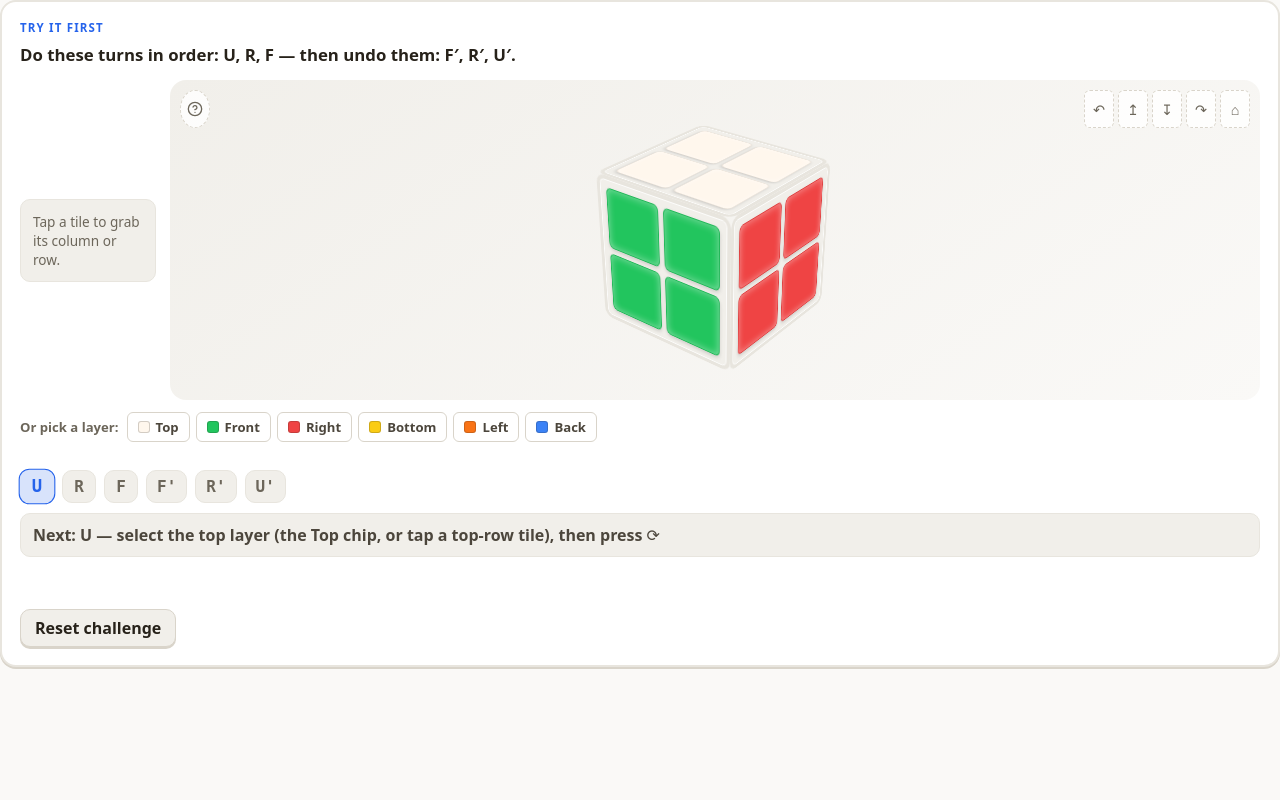
Test: ChallengePanel — cube help popover › opens from the ? button, explains the tap-twice rule, and closes on ×
Click the button named "how to control the cube" at (195, 109), box [180,90,210,128]
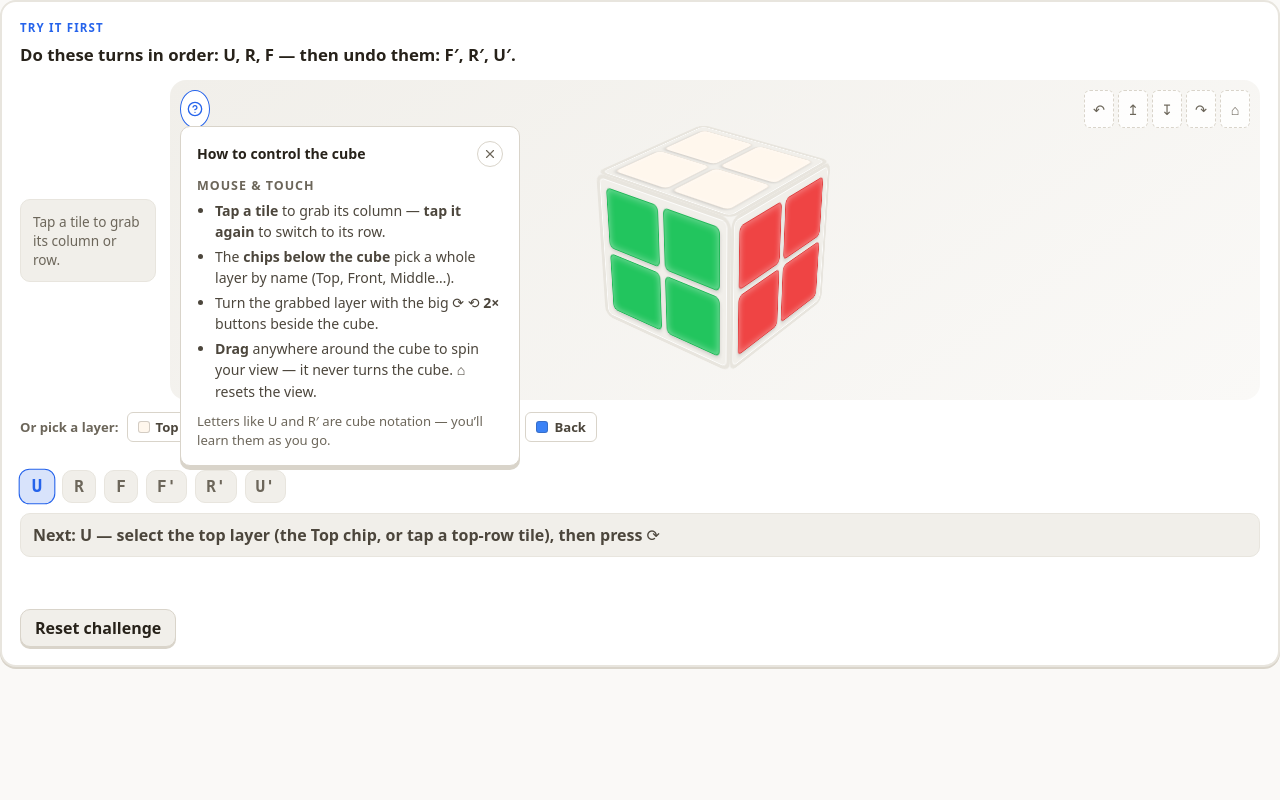
Check: the text "tap it again" is shown, box [215,201,461,241]
Click the button named "close help" at (490, 154), box [477,141,503,167]
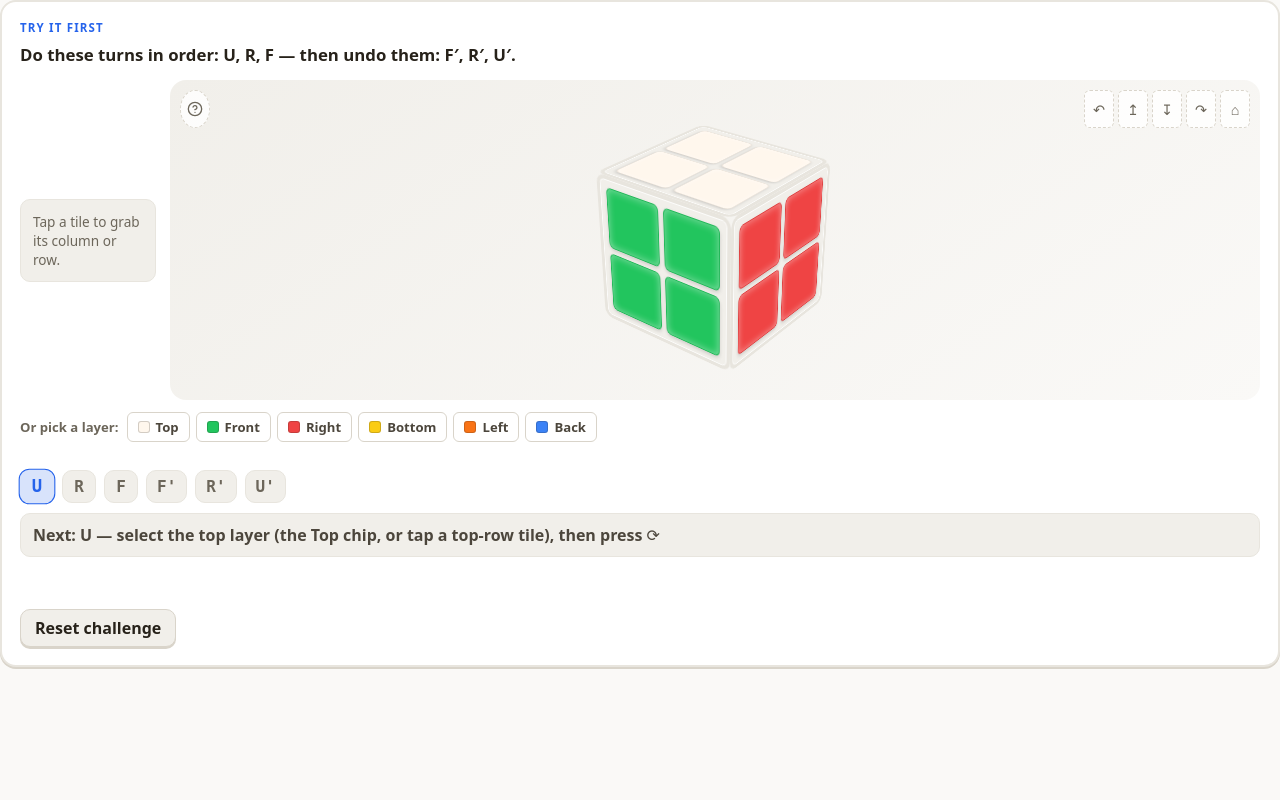
Check: the dialog with test id "cube-help-popover" is gone
